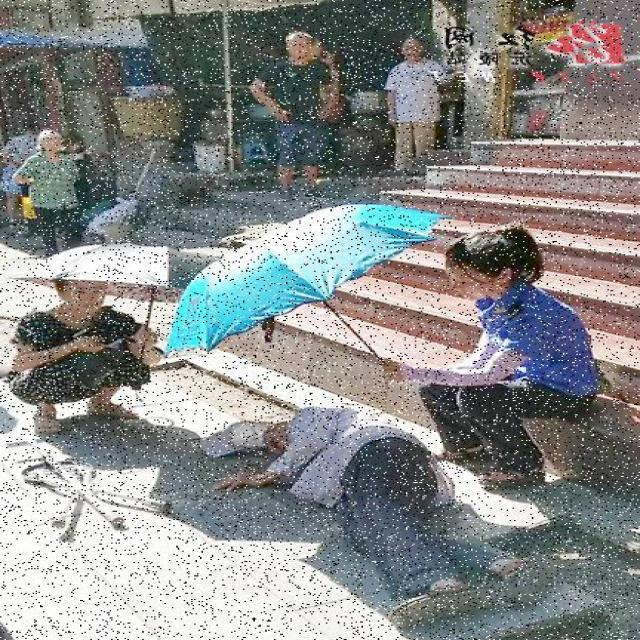fall: (218, 422, 560, 610)
